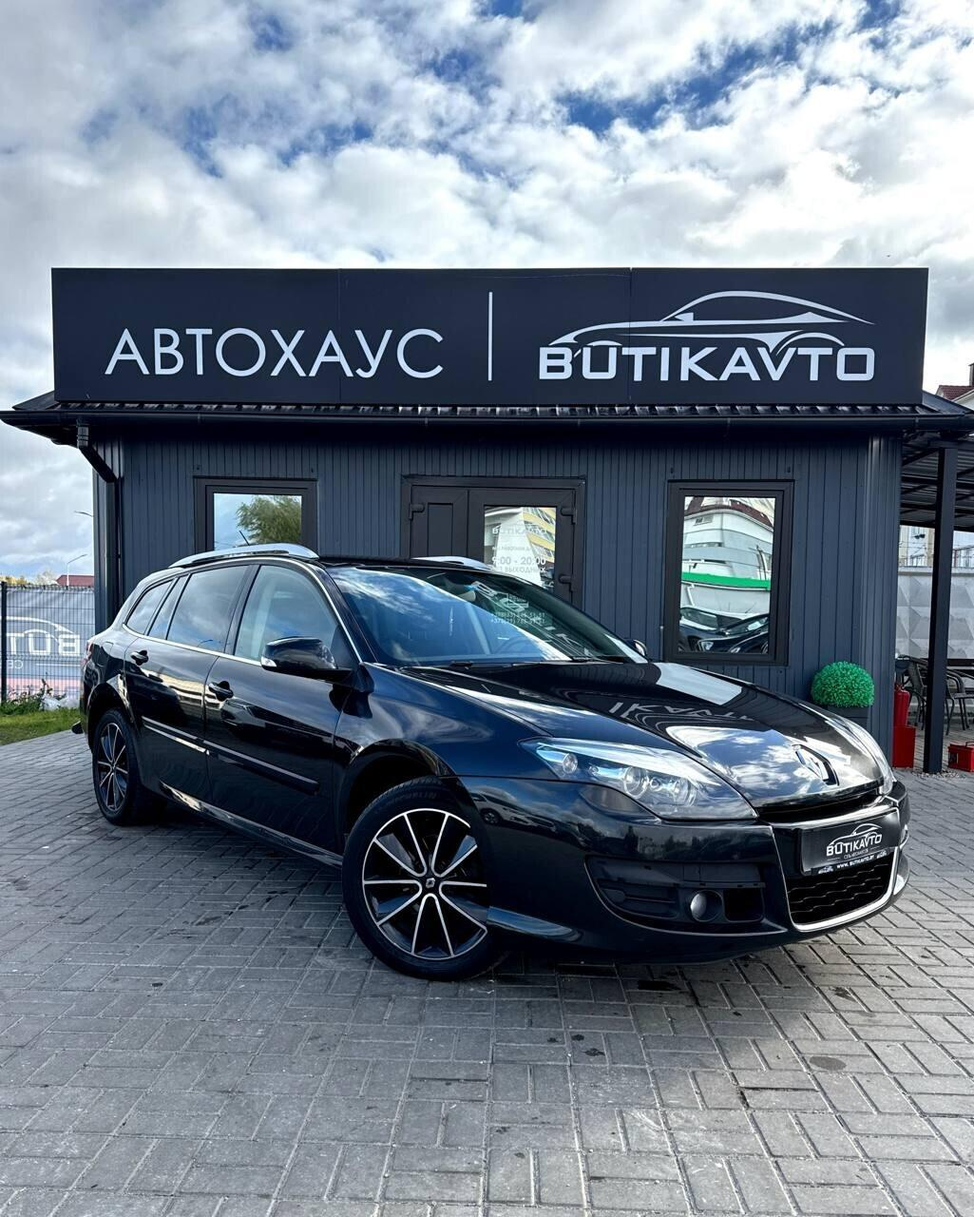Laguna_2010-2015: (78, 540, 911, 990)
